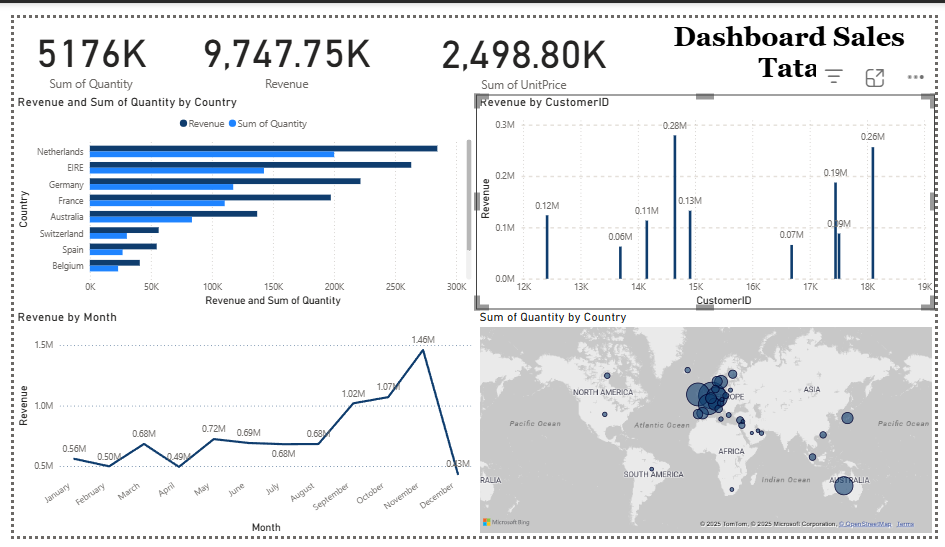

The page's visual inventory and layout, read from the dashboard file:
{"tool":"powerbi","page":{"name":"Page 1","canvas":[1280,720],"ordinal":0},"visuals":[{"type":"lineChart","fields":{"Category":["Online Retail.InvoiceDate.Variation.Date Hierarchy.Month"],"Y":["Online Retail.Revenue"]},"box":[0,404.4,640.6,315.6],"z":0},{"type":"clusteredBarChart","fields":{"Y":["Online Retail.Revenue","Online Retail.Quantity"],"Category":["Online Retail.Country"]},"box":[0,105.8,640.6,298.6],"z":1000},{"type":"clusteredColumnChart","fields":{"Category":["Online Retail.CustomerID"],"Y":["Online Retail.Revenue"]},"box":[640.6,105.8,638.7,298.6],"z":2000},{"type":"map","fields":{"Category":["Online Retail.Country"],"Size":["Online Retail.Quantity"]},"box":[640.6,404.4,638.7,315.6],"z":3000},{"type":"card","fields":{"Values":["Online Retail.Quantity"]},"box":[0,0,213,105.6],"z":4000},{"type":"card","fields":{"Values":["Online Retail.Revenue"]},"box":[213,0,331.5,105.6],"z":5000},{"type":"card","fields":{"Values":["Online Retail.UnitPrice"]},"box":[544.4,0,327.8,107.4],"z":6000},{"type":"textbox","box":[872.2,0,407.4,107.4],"z":7000}]}

Visuals, with their boxes on the page's 1280x720 design canvas (x1, y1, x2, y2). These are canvas units, not pixel positions in the 945x547 screenshot, which may show the page scaled, cropped or inside an application window:
lineChart - Online Retail.InvoiceDate.Variation.Date Hierarchy.Month x Online Retail.Revenue: locate(0, 404, 641, 720)
clusteredBarChart - Online Retail.Revenue x Online Retail.Quantity: locate(0, 106, 641, 404)
clusteredColumnChart - Online Retail.CustomerID x Online Retail.Revenue: locate(641, 106, 1279, 404)
map - Online Retail.Country x Online Retail.Quantity: locate(641, 404, 1279, 720)
card - Online Retail.Quantity: locate(0, 0, 213, 106)
card - Online Retail.Revenue: locate(213, 0, 544, 106)
card - Online Retail.UnitPrice: locate(544, 0, 872, 107)
textbox: locate(872, 0, 1280, 107)
